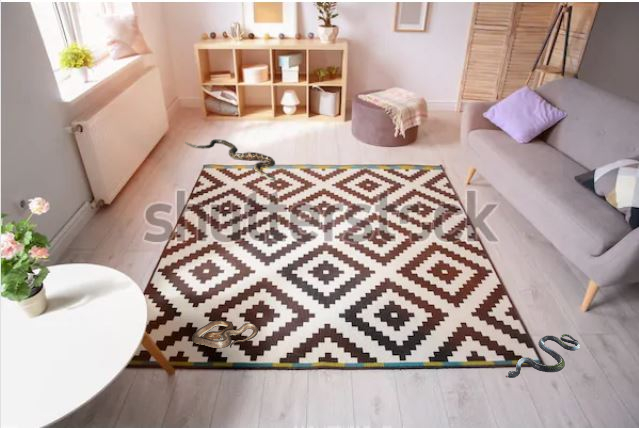snake: (505, 332, 582, 380), (183, 137, 276, 176), (191, 319, 258, 348)
